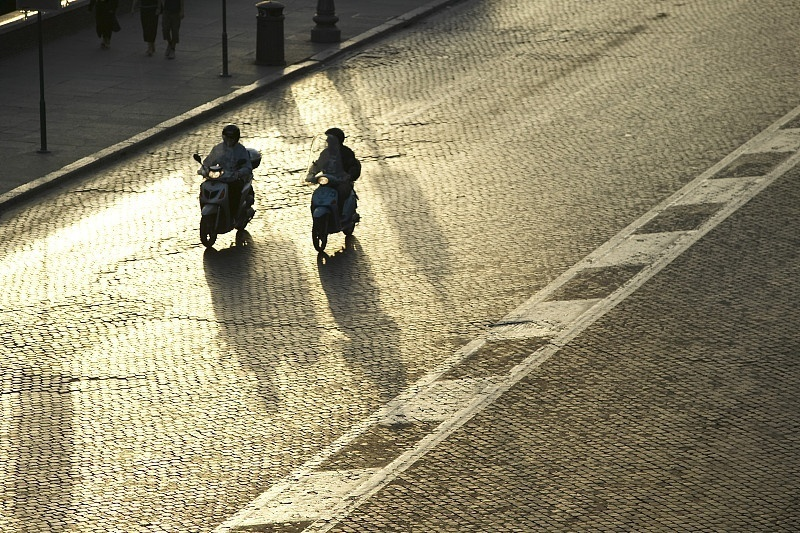non-vehicle: (193, 150, 258, 250), (304, 171, 359, 254)
